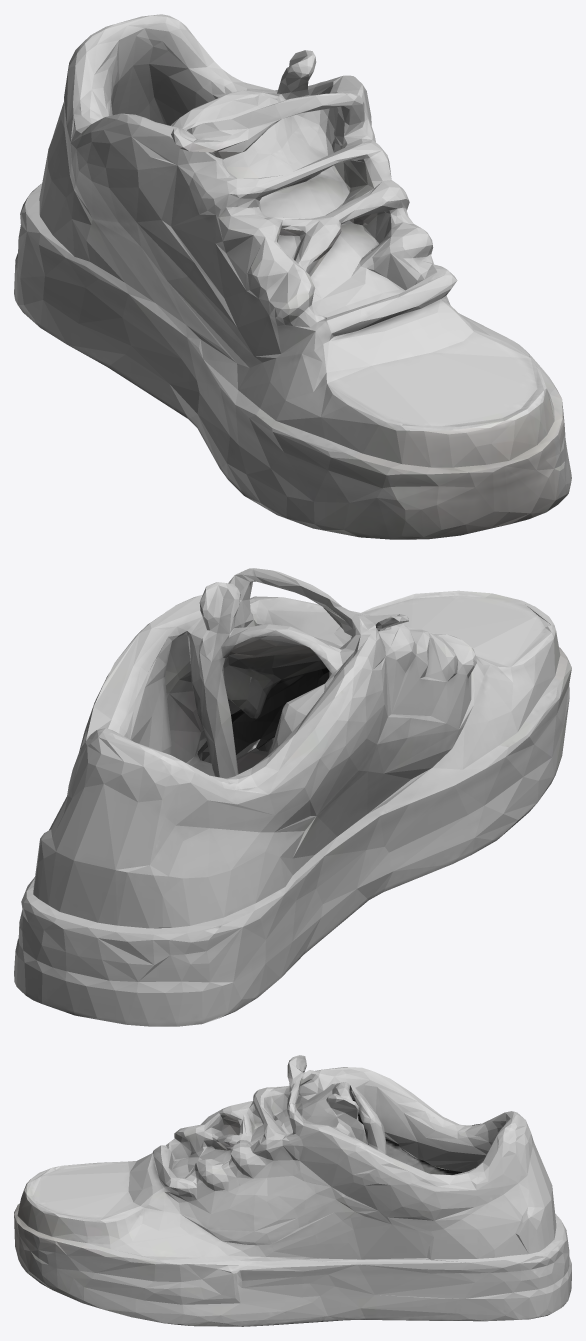
The picture shows the model from 3 angles, top to bottom: view 1: azimuth 30°, elevation 25°; view 2: azimuth 150°, elevation 25°; view 3: azimuth 270°, elevation 25°; orthographic projection. The views are drawn at different scales.
Visible parts, largest first — view 1: geometry_0; view 2: geometry_0; view 3: geometry_0.
Boxes of the visible parts, x1,y1,x2,y2 form: geometry_0: (14,14,571,539); geometry_0: (14,568,571,1026); geometry_0: (14,1055,571,1326).
Size of the model in its own units: 0.3698 by 0.4031 by 0.9973.
Materials: 1 (1 with a texture image).
